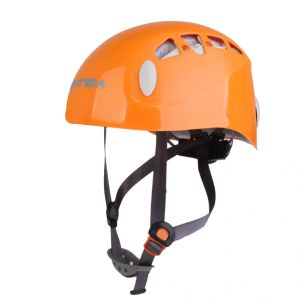elmetto: (55, 14, 273, 166)
